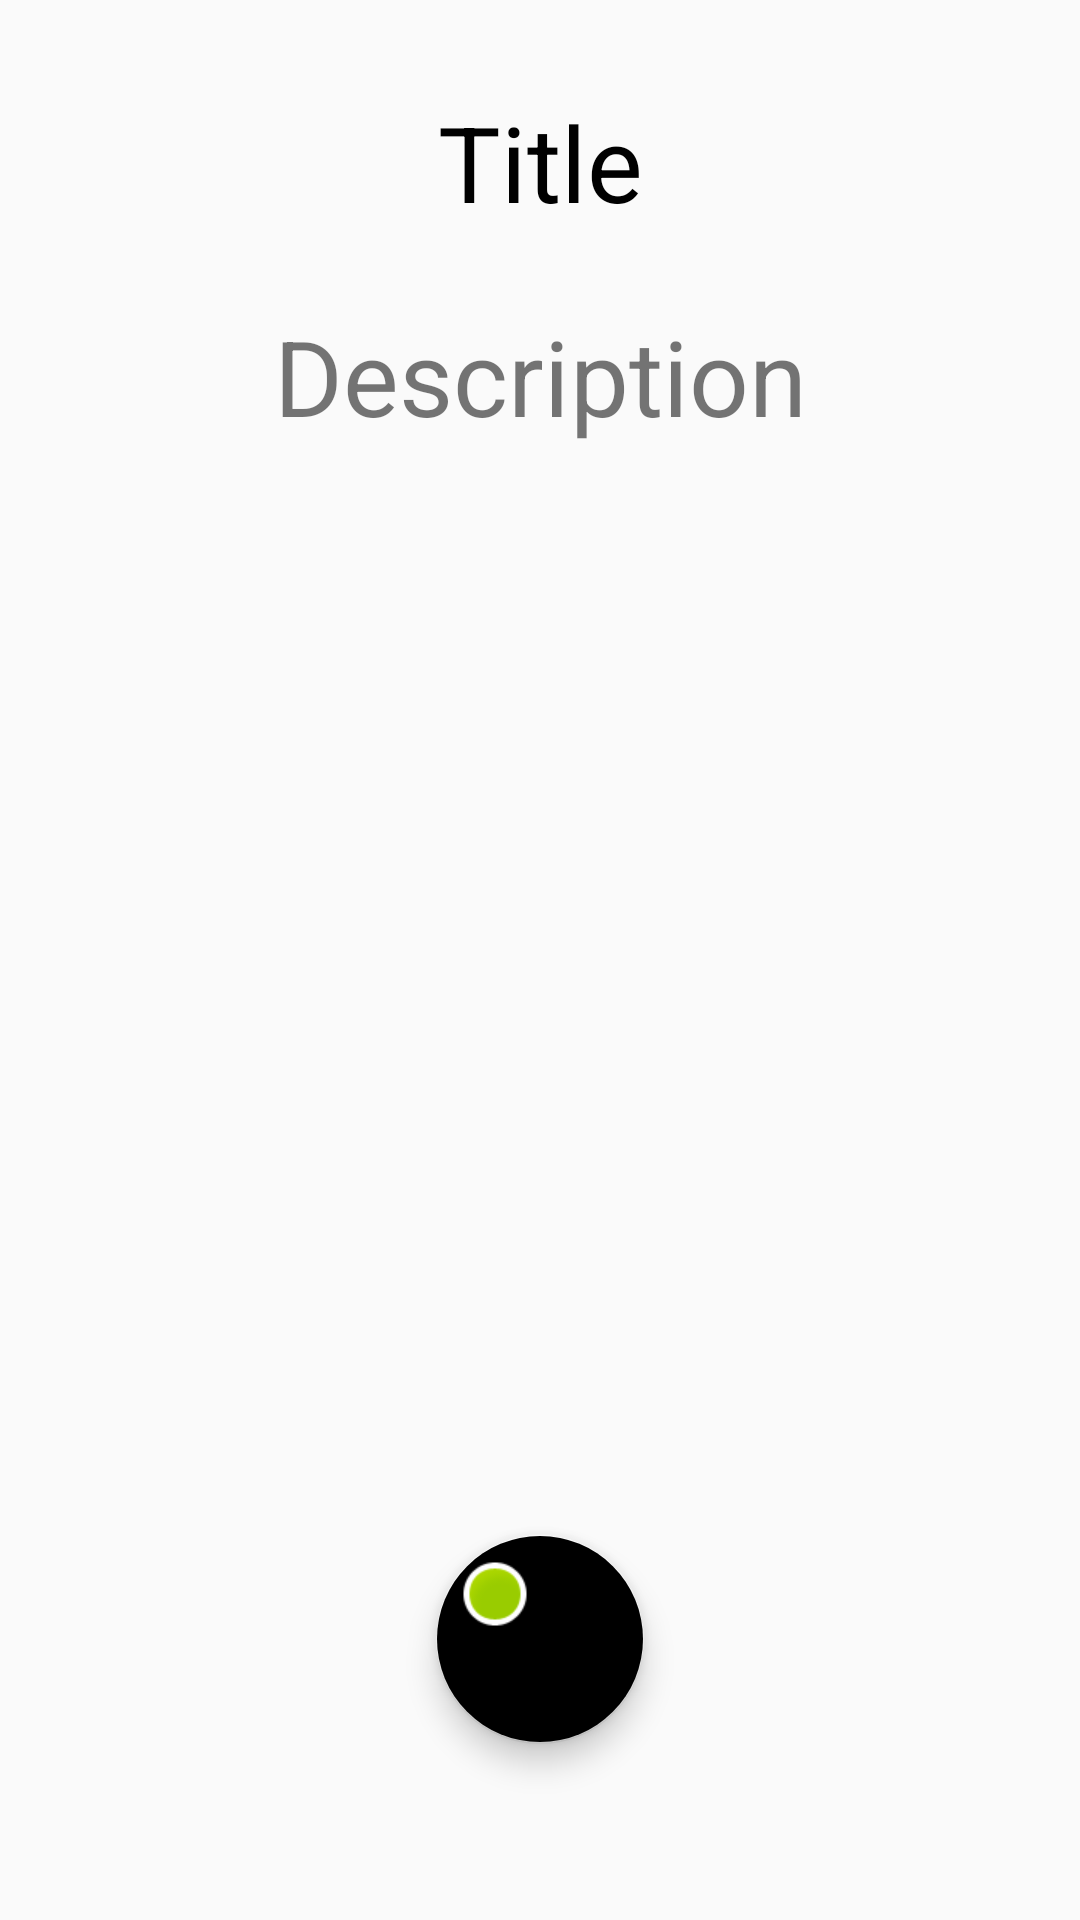

Named icons in this screenshot (1080px×1920px) and their centers, point (x, y):
presence online: point (540, 1640)
